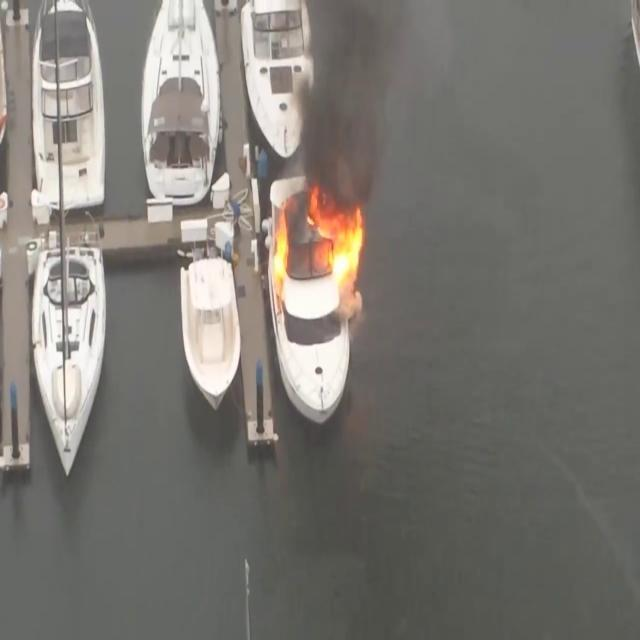Fire: (305, 190, 367, 300), (270, 210, 292, 306)
Smoke: (286, 0, 420, 196)
